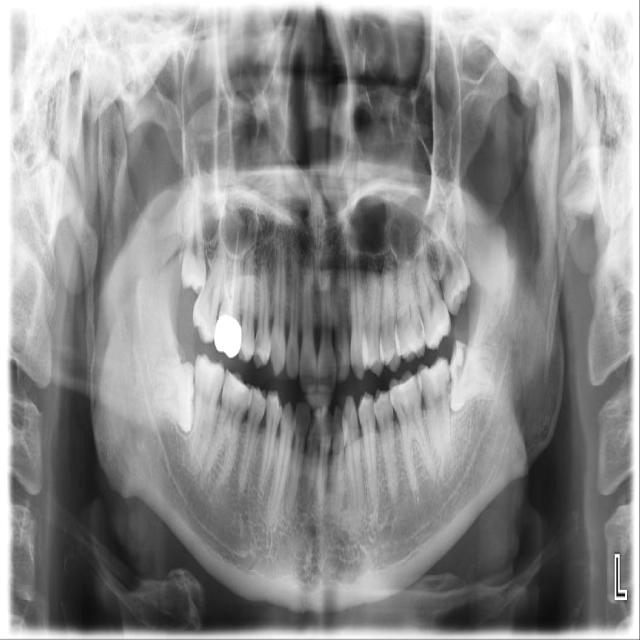Crown: (214, 315, 242, 358)
Filling: (447, 341, 472, 412), (446, 376, 451, 399)
Periapical lesion: (294, 474, 321, 530), (408, 487, 425, 516), (415, 224, 431, 242), (396, 481, 402, 505)
Root Canal Treatment: (229, 234, 238, 301), (219, 279, 232, 307)
impacted tooth: (432, 204, 472, 315), (143, 359, 196, 434), (451, 341, 501, 413), (182, 168, 206, 289)
